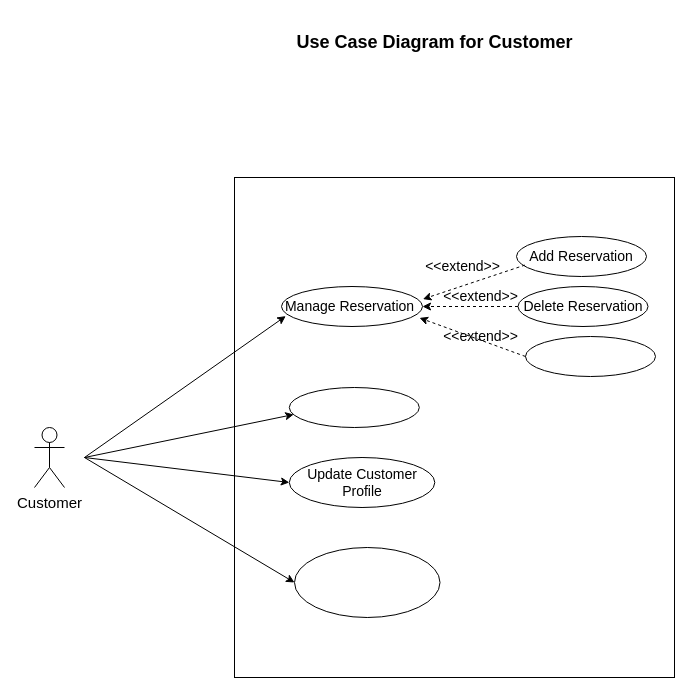
The diagram is 692 pixels wide and 695 high, and some of its shapes have lost their labels. The shapes that lost their labels are listed below. From the top down, each one's box as (x1, y1, x2, y2) in pixels, then its label:
(524, 336, 656, 376): Update Reservation
(288, 386, 419, 428): Register
(294, 546, 440, 618): Make Online Advanced Payment
